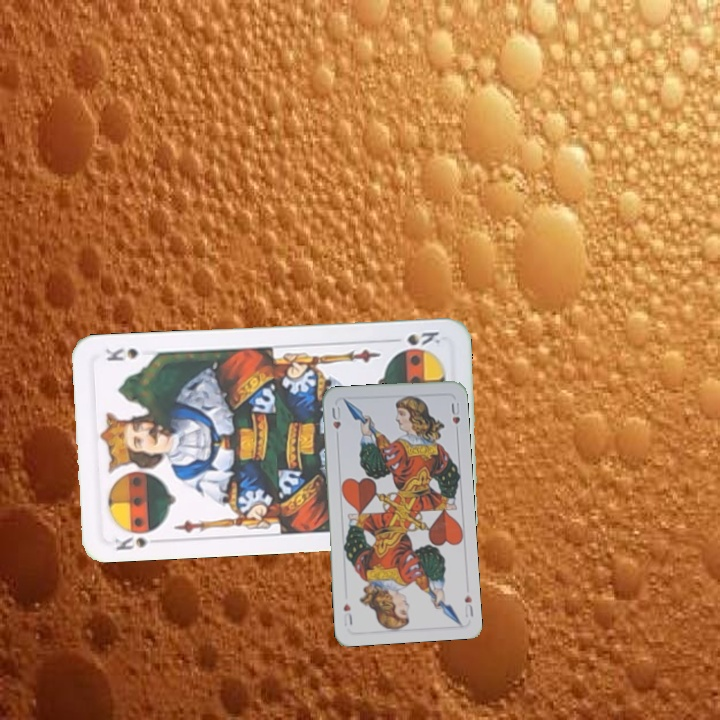HU: (328, 403, 344, 432), (460, 591, 476, 620)
SK: (110, 524, 162, 553), (403, 327, 443, 348)
